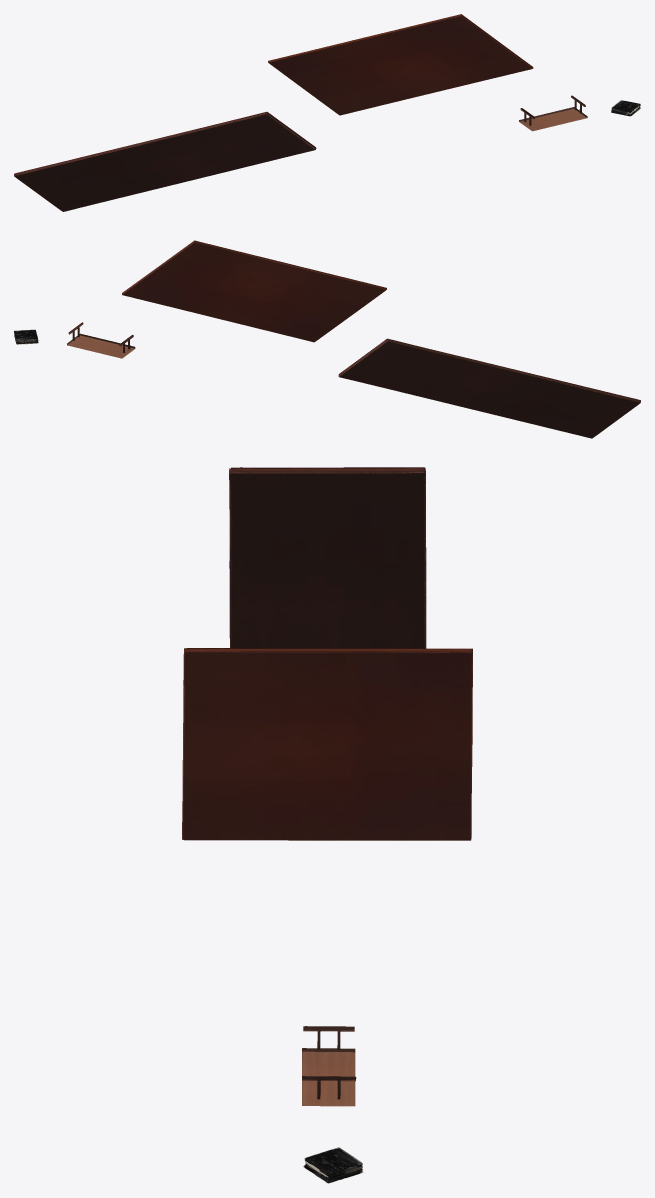
The model's file is viga.glb.
The picture shows the model from 3 angles, top to bottom: view 1: azimuth 30°, elevation 25°; view 2: azimuth 150°, elevation 25°; view 3: azimuth 270°, elevation 25°; orthographic projection. The views are drawn at different scales.
Parts seen in each view (by area): view 1: wooden_baseboard_mesh, white_wall_mesh, wooden_floor_mesh, wooden_wall_panel_mesh; view 2: wooden_baseboard_mesh, white_wall_mesh, wooden_floor_mesh, wooden_wall_panel_mesh; view 3: wooden_baseboard_mesh, white_wall_mesh, wooden_floor_mesh, wooden_wall_panel_mesh.
Part boxes in pixels (box(x1,y1,x2,y2)): wooden_baseboard_mesh: box(268, 14, 533, 115); white_wall_mesh: box(14, 111, 316, 211); wooden_floor_mesh: box(519, 95, 587, 131); wooden_wall_panel_mesh: box(611, 100, 640, 116); wooden_baseboard_mesh: box(122, 240, 386, 342); white_wall_mesh: box(338, 338, 640, 438); wooden_floor_mesh: box(67, 322, 135, 358); wooden_wall_panel_mesh: box(14, 329, 38, 344); wooden_baseboard_mesh: box(182, 648, 472, 840); white_wall_mesh: box(229, 467, 426, 648); wooden_floor_mesh: box(302, 1026, 356, 1106); wooden_wall_panel_mesh: box(303, 1147, 363, 1183).
Size of the model in its own units: 7.9 by 1.3 by 1.65.
Materials: 4 (4 with a texture image).
